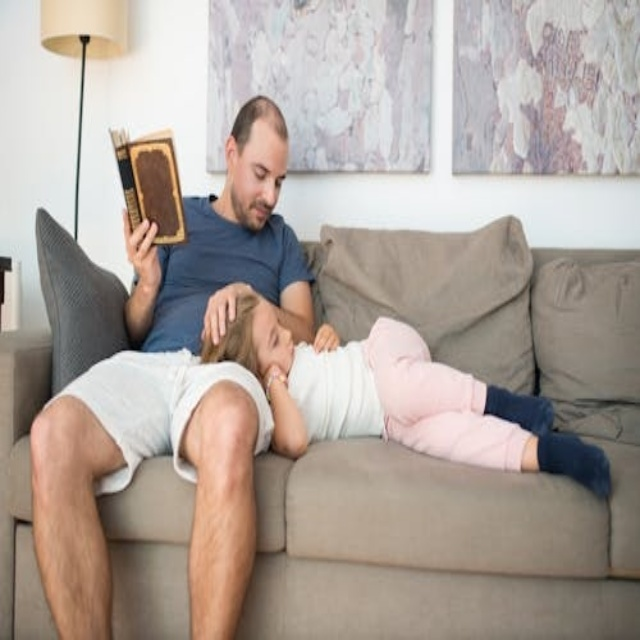Sin_gafas: (244, 151, 292, 190), (262, 307, 287, 360)
Sin_guantes: (115, 203, 168, 295), (193, 276, 255, 349), (310, 314, 340, 356)
Sin_mascara: (238, 194, 275, 234)
